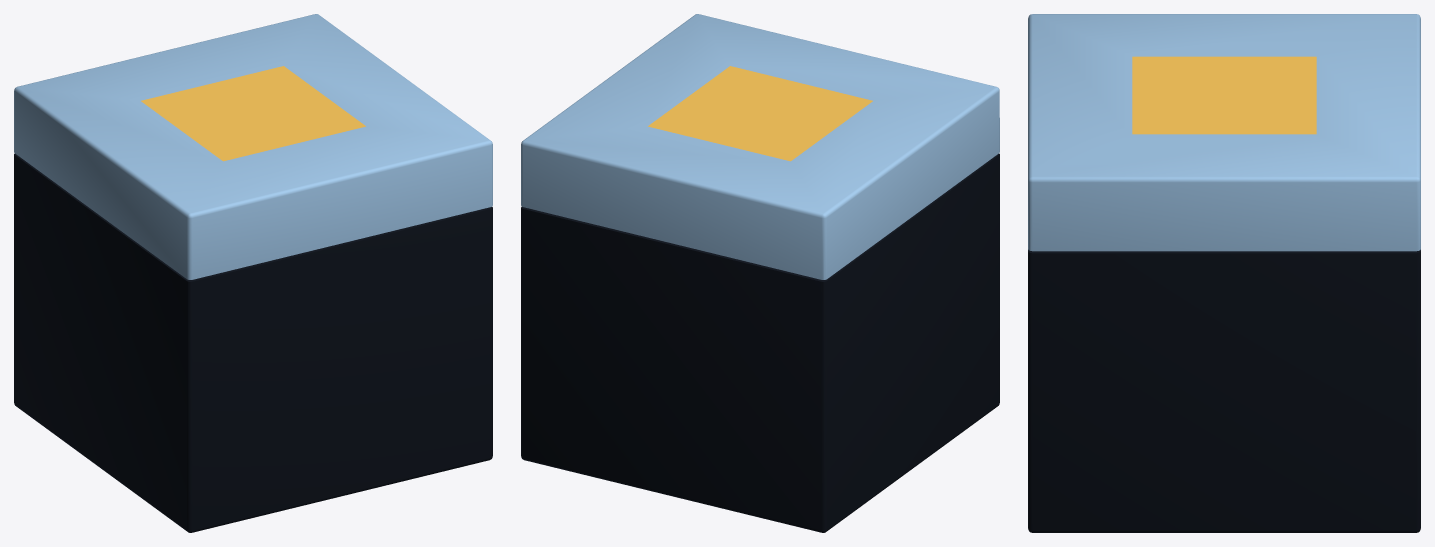
Rendered from Floor - Goal.fbx.
3 views of the same model, side by side, from view 1: azimuth 30°, elevation 25°; view 2: azimuth 150°, elevation 25°; view 3: azimuth 270°, elevation 25° (orthographic). The views are drawn at different scales.
Parts seen in each view (by area): view 1: Floor - Goal; view 2: Floor - Goal; view 3: Floor - Goal.
Part boxes in pixels (box(x1,y1,x2,y2)): Floor - Goal: box(14, 14, 492, 532); Floor - Goal: box(521, 14, 999, 532); Floor - Goal: box(1028, 14, 1420, 532).
Bounding box in the file's own units: 200 × 200 × 200.
